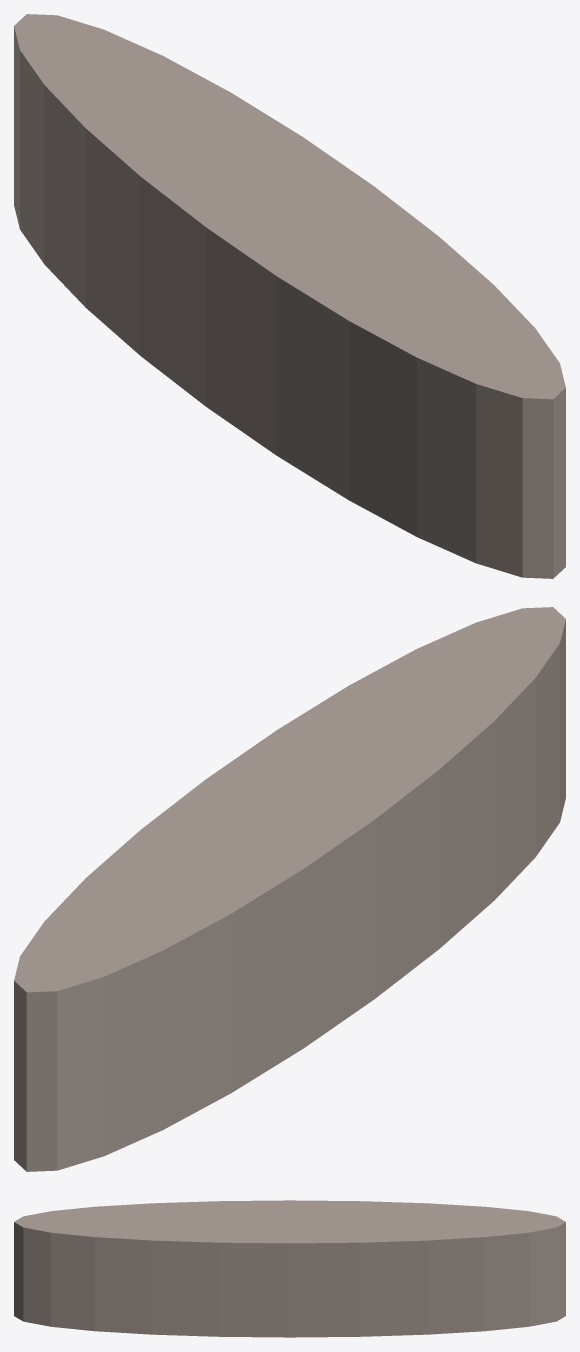
File: own_cyl_143x146x776_6a5a50.glb
3 views of the same model, one above another, from view 1: azimuth 30°, elevation 25°; view 2: azimuth 150°, elevation 25°; view 3: azimuth 270°, elevation 25° (orthographic). The views are drawn at different scales.
Visible parts, largest first — view 1: geometry_0; view 2: geometry_0; view 3: geometry_0.
Part boxes in pixels (x1,y1,x2,y2): geometry_0: (14,14,565,578); geometry_0: (14,607,565,1171); geometry_0: (14,1200,565,1337).
Bounding box in the file's own units: 1.43 × 1.46 × 7.76.
